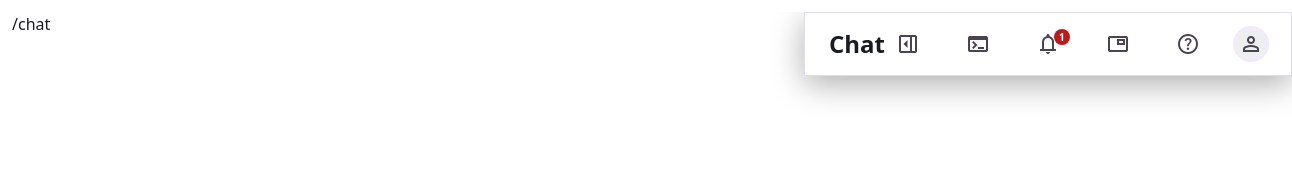
Header — skill candidate badge › keeps the badge but routes the click to /triage (no modal hijack)
Expected: the text "1" is shown, [1054,29,1070,45]
Click the button named "Notifications": (1048, 44) [1025,28,1071,60]
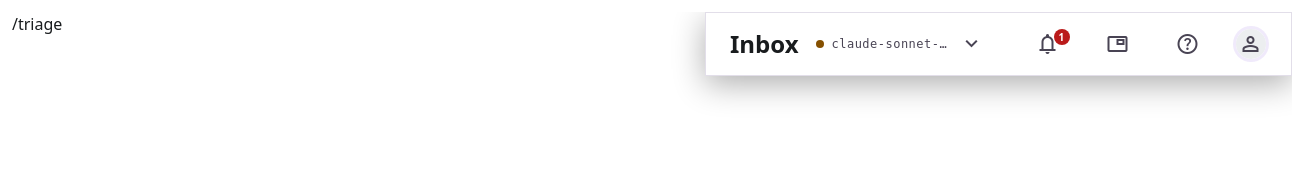
Expected: the text with test id "header-location" reads "/triage", [12,13,62,35]
